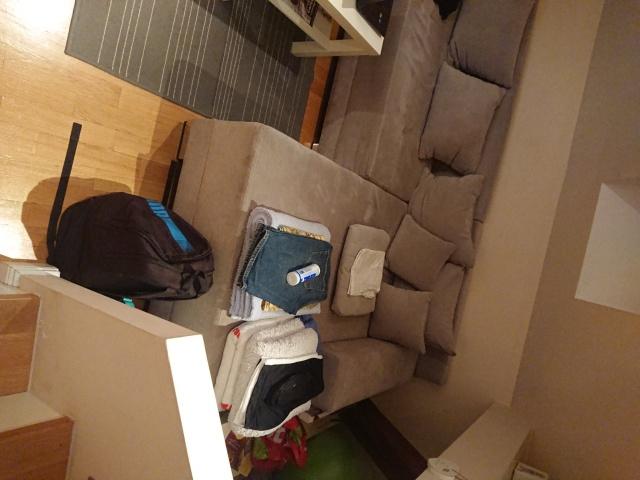Solana Pag Fine Sea Salt 250g: (284, 261, 323, 287)
